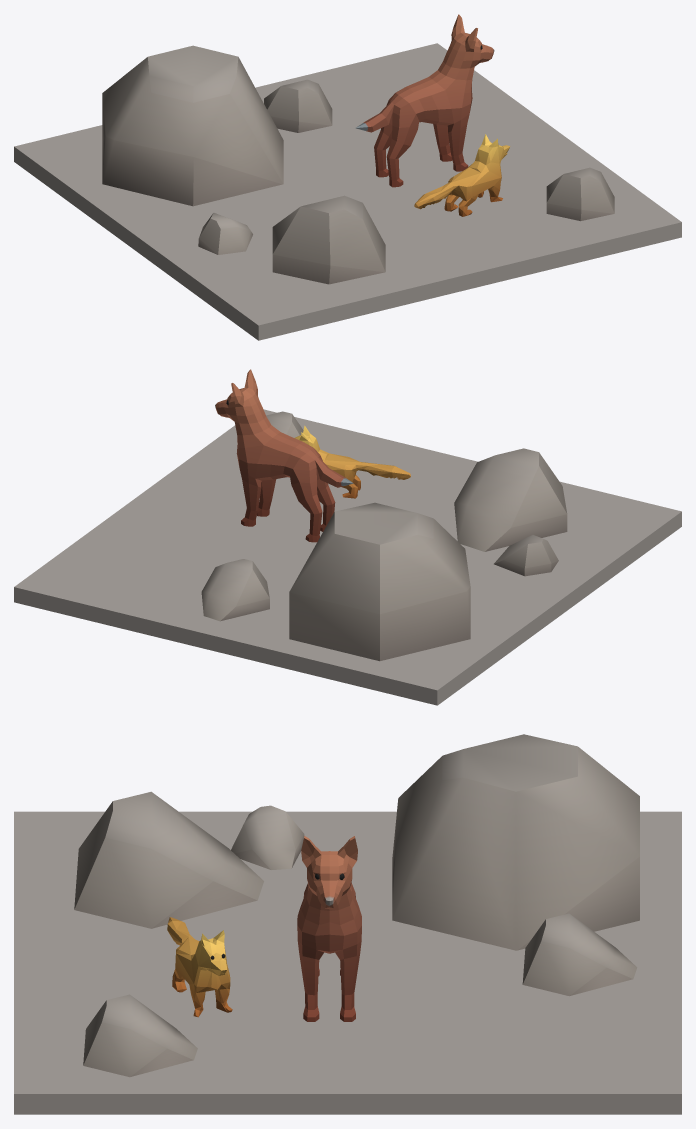
Rendered from space_dogs.glb.
The picture shows the model from 3 angles, top to bottom: view 1: azimuth 30°, elevation 25°; view 2: azimuth 150°, elevation 25°; view 3: azimuth 270°, elevation 25°; orthographic projection. The views are drawn at different scales.
Parts seen in each view (by area): view 1: Spacedogs; view 2: Spacedogs; view 3: Spacedogs.
Boxes of the visible parts, x1,y1,x2,y2 form: Spacedogs: (14, 14, 681, 340); Spacedogs: (14, 369, 681, 705); Spacedogs: (14, 734, 681, 1114).
Size of the model in its own units: 0.29 by 0.1021 by 0.29.
1 material, 1 textured.
